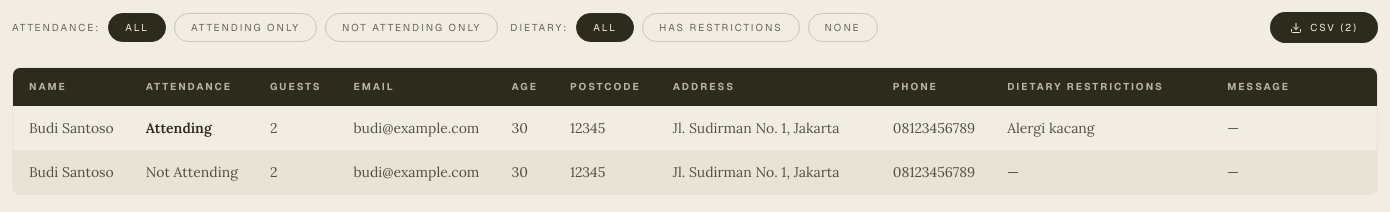
Scenario: RsvpTable — filtering › narrows to attend-only rows via the attendance filter chip
The width and height of the screenshot is (1390, 212).
What coordinates should you click on to do the following:
click the button "Attending only"
I would click on:
 (246, 28)
Its box is [174,13,317,42].
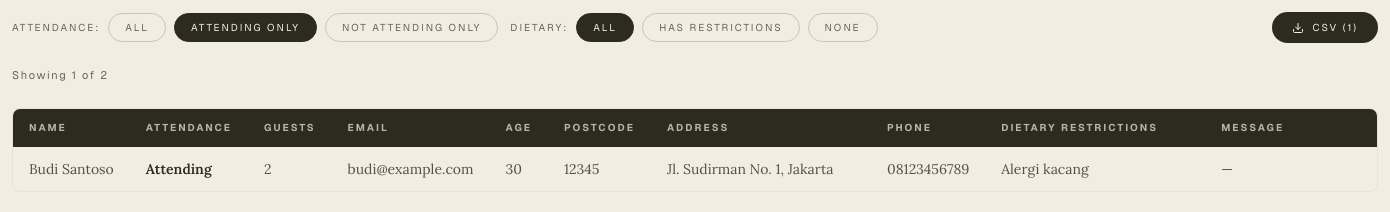
Expected: the text "budi@example.com" is shown, [332,147,490,191]
Expected: the text "Showing 1 of 2" is shown, [12,68,109,82]
